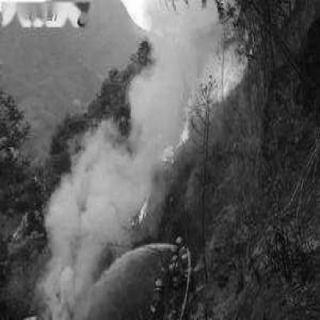Fire: (156, 21, 257, 164), (125, 186, 153, 226)
Smoke: (67, 159, 123, 255), (145, 3, 187, 123), (46, 262, 90, 300)
other: (156, 236, 192, 298)
